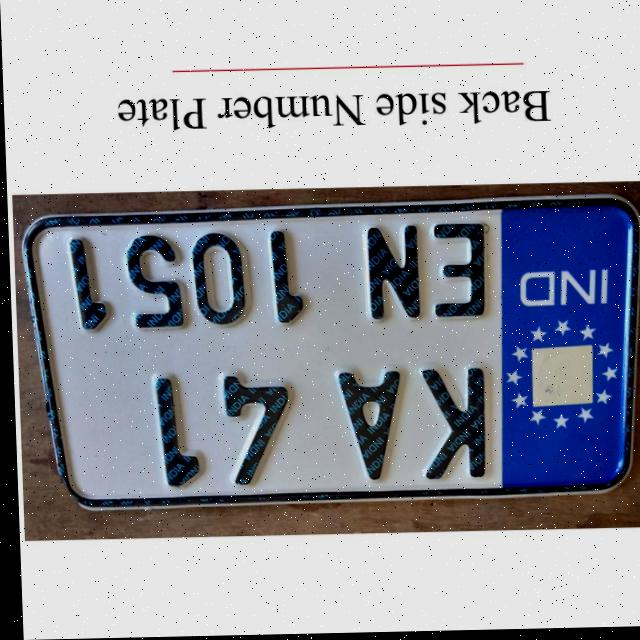plate: (16, 201, 640, 511)
